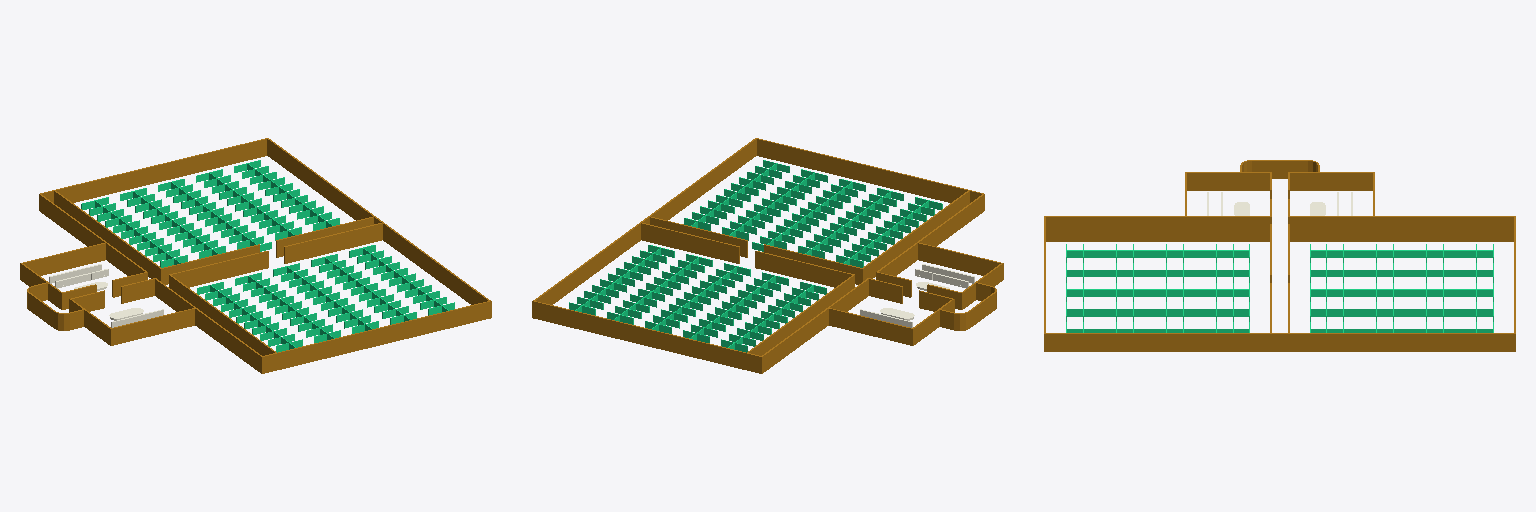
The robot description file, URDF, robot "10_22room2":
<?xml version="1.0" encoding="utf-8"?>
<!-- This URDF was automatically created by SolidWorks to URDF Exporter! Originally created by [author] ([email redacted]) 
     Commit Version: 1.6.0-4-g7f85cfe  Build Version: 1.6.7995.38578
     For more information, please see http://wiki.ros.org/sw_urdf_exporter -->
<robot
  name="10_22room2">
  <link
    name="base_link">
    <inertial>
      <origin
        xyz="48.8921428822432 -1.17139840239803E-14 2.5"
        rpy="0 0 0" />
      <mass
        value="1935098.44949343" />
      <inertia
        ixx="2360370034.88366"
        ixy="3.86745731221733E-06"
        ixz="1.0457124529494E-07"
        iyy="2059683974.11966"
        iyz="2.29155435960138E-07"
        izz="4411991098.7971" />
    </inertial>
    <visual>
      <origin
        xyz="0 0 0"
        rpy="0 0 0" />
      <geometry>
        <mesh
          filename="package://10_22room2/meshes/base_link.STL" />
      </geometry>
      <material
        name="">
        <color
          rgba="0.749019607843137 0.529411764705882 0.149019607843137 1" />
      </material>
    </visual>
    <collision>
      <origin
        xyz="0 0 0"
        rpy="0 0 0" />
      <geometry>
        <mesh
          filename="package://10_22room2/meshes/base_link.STL" />
      </geometry>
    </collision>
  </link>
  <link
    name="fixed1">
    <inertial>
      <origin
        xyz="16.9585875235413 8.62052242418681E-16 0.742247005824651"
        rpy="0 0 0" />
      <mass
        value="109723.569326841" />
      <inertia
        ixx="67219.3350585608"
        ixy="3.25145099749031E-12"
        ixz="-6.65008815905125E-13"
        iyy="353673.368090466"
        iyz="-7.74949548976167E-13"
        izz="373444.358088869" />
    </inertial>
    <visual>
      <origin
        xyz="0 0 0"
        rpy="0 0 0" />
      <geometry>
        <mesh
          filename="package://10_22room2/meshes/fixed1.STL" />
      </geometry>
      <material
        name="">
        <color
          rgba="1 0.988235294117647 0.92156862745098 1" />
      </material>
    </visual>
    <collision>
      <origin
        xyz="0 0 0"
        rpy="0 0 0" />
      <geometry>
        <mesh
          filename="package://10_22room2/meshes/fixed1.STL" />
      </geometry>
    </collision>
  </link>
  <joint
    name="fixed1"
    type="fixed">
    <origin
      xyz="0 0 0"
      rpy="0 0 0" />
    <parent
      link="base_link" />
    <child
      link="fixed1" />
    <axis
      xyz="0 0 0" />
  </joint>
  <link
    name="fixed2">
    <inertial>
      <origin
        xyz="67 0.469465648855002 1"
        rpy="0 0 0" />
      <mass
        value="733600" />
      <inertia
        ixx="7261874.66666663"
        ixy="1.95439546051557E-09"
        ixz="8.46730093447453E-11"
        iyy="3369538.66666667"
        iyz="9.64049084004231E-11"
        izz="10142346.6666666" />
    </inertial>
    <visual>
      <origin
        xyz="0 0 0"
        rpy="0 0 0" />
      <geometry>
        <mesh
          filename="package://10_22room2/meshes/fixed2.STL" />
      </geometry>
      <material
        name="">
        <color
          rgba="0.149019607843137 0.909803921568627 0.592156862745098 1" />
      </material>
    </visual>
    <collision>
      <origin
        xyz="0 0 0"
        rpy="0 0 0" />
      <geometry>
        <mesh
          filename="package://10_22room2/meshes/fixed2.STL" />
      </geometry>
    </collision>
  </link>
  <joint
    name="fixed2"
    type="fixed">
    <origin
      xyz="0 0 0"
      rpy="0 0 0" />
    <parent
      link="base_link" />
    <child
      link="fixed2" />
    <axis
      xyz="0 0 0" />
  </joint>
</robot>

--- Render facts (derived) ---
Views: 3 orthographic renders of the robot side by side, from view 1: azimuth 30°, elevation 25°; view 2: azimuth 150°, elevation 25°; view 3: azimuth 270°, elevation 25°.
Model 10_22room2 with 3 links and 2 joints (2 fixed), rooted at base_link, posed every joint at zero.
Links seen in each view (by area): view 1: base_link, fixed2, fixed1; view 2: base_link, fixed2, fixed1; view 3: base_link, fixed2, fixed1.
Boxes of the visible links, box(x1,y1,x2,y2) form: base_link: box(20, 138, 491, 373); fixed2: box(81, 160, 454, 352); fixed1: box(49, 264, 163, 327); base_link: box(532, 138, 1003, 373); fixed2: box(569, 160, 942, 352); fixed1: box(860, 264, 974, 327); base_link: box(1044, 160, 1515, 351); fixed2: box(1066, 244, 1493, 332); fixed1: box(1207, 192, 1352, 215).
Bounding box of the posed robot: 104 × 119 × 5 m (x, y, z).
3 mesh visuals loaded from 3 distinct referenced files (3 binary STL).